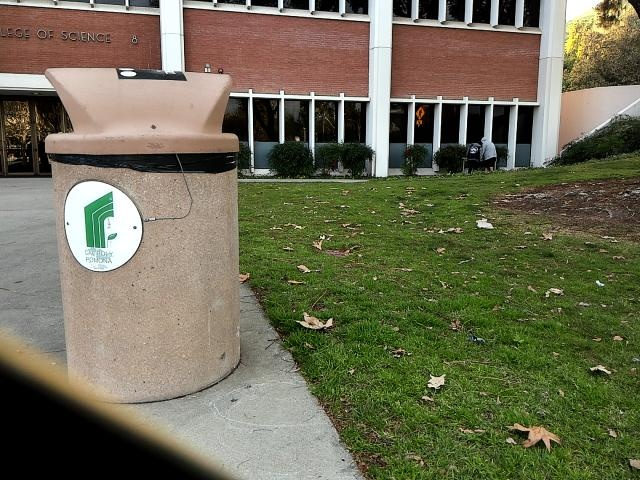trashcan: (40, 63, 271, 394)
